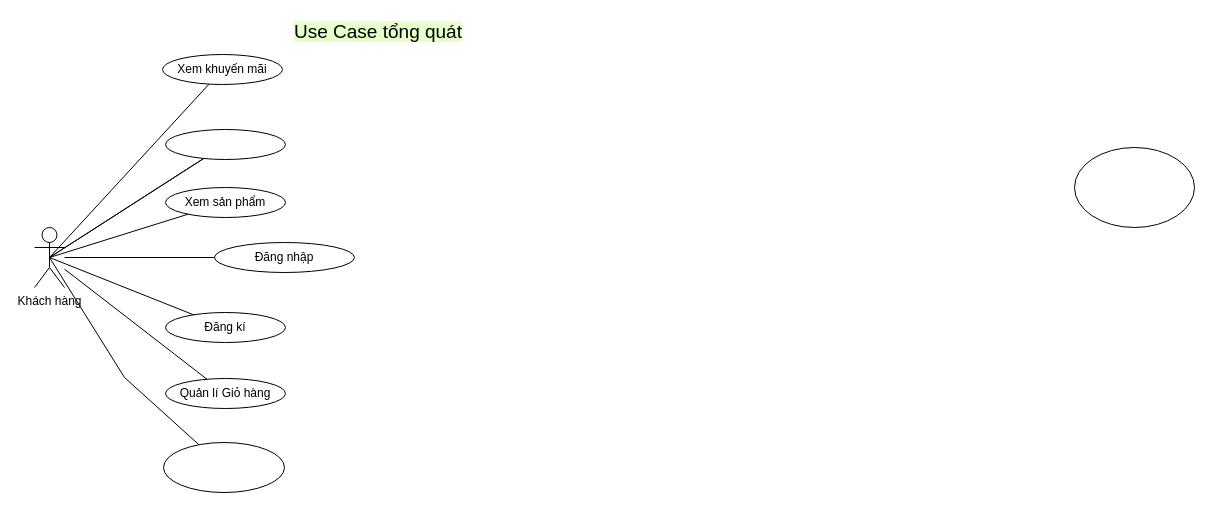
This 1212x510 diagram has some shape labels left out. Each missing label, with the box of its shape:
Thêm sản phẩm vào giỏ hàng: (162, 442, 284, 492)
Tìm kiếm sản phẩm: (164, 128, 286, 160)
